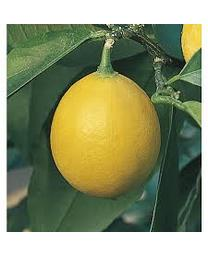lemon: (52, 73, 163, 198)
